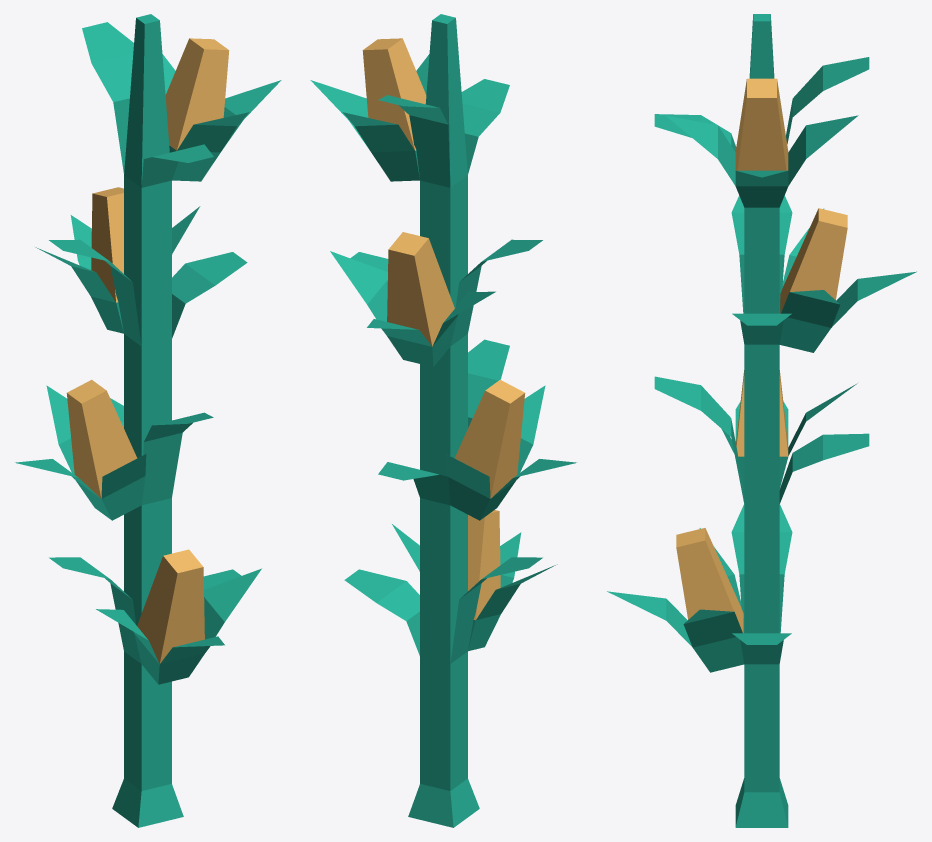
Rendered from corn.glb.
The picture shows the model from 3 angles, left to right: view 1: azimuth 30°, elevation 25°; view 2: azimuth 150°, elevation 25°; view 3: azimuth 270°, elevation 25°; orthographic projection.
Parts seen in each view (by area): view 1: crops_cornStageD, corn, corn-2, corn-4, corn-3; view 2: crops_cornStageD, corn-3, corn-2, corn-4, corn; view 3: crops_cornStageD, corn-4, corn, corn-3, corn-2.
Part boxes in pixels (x1,y1,x2,y2): crops_cornStageD: [49, 14, 247, 827]; corn: [96, 549, 261, 684]; corn-2: [15, 379, 146, 520]; corn-4: [162, 38, 281, 181]; corn-3: [35, 187, 200, 333]; crops_cornStageD: [344, 14, 542, 827]; corn-3: [330, 232, 495, 367]; corn-2: [445, 379, 576, 520]; corn-4: [310, 38, 429, 181]; corn: [392, 510, 557, 651]; crops_cornStageD: [654, 14, 869, 827]; corn-4: [665, 78, 858, 207]; corn: [607, 528, 744, 672]; corn-3: [779, 208, 916, 352]; corn-2: [721, 370, 857, 488].
Bounding box in the file's own units: 0.4416 × 1.25 × 0.4416.
